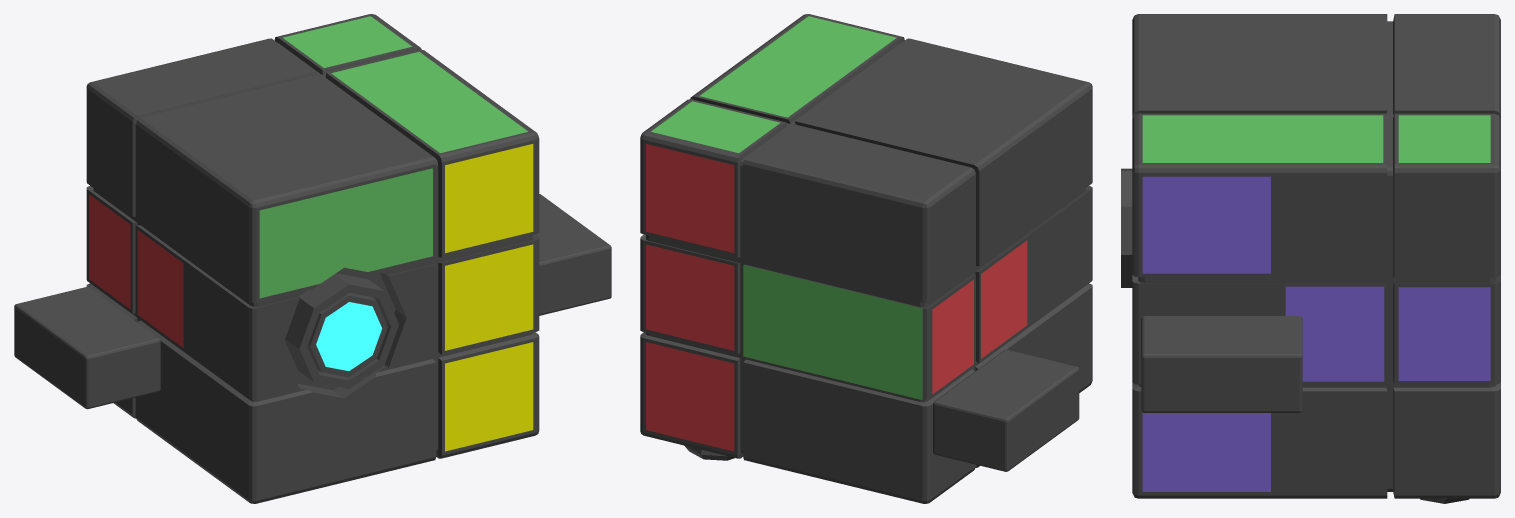
File: Senti-Drone.fbx
3 views of the same model, side by side, from view 1: azimuth 30°, elevation 25°; view 2: azimuth 150°, elevation 25°; view 3: azimuth 270°, elevation 25° (orthographic). The views are drawn at different scales.
Parts seen in each view (by area): view 1: Cube; view 2: Cube; view 3: Cube.
Boxes of the visible parts, left/top/right/bottom form: Cube: left=14, top=14, right=611, bottom=503; Cube: left=640, top=14, right=1092, bottom=503; Cube: left=1121, top=14, right=1500, bottom=503.
Size of the model in its own units: 304 by 211 by 206.
